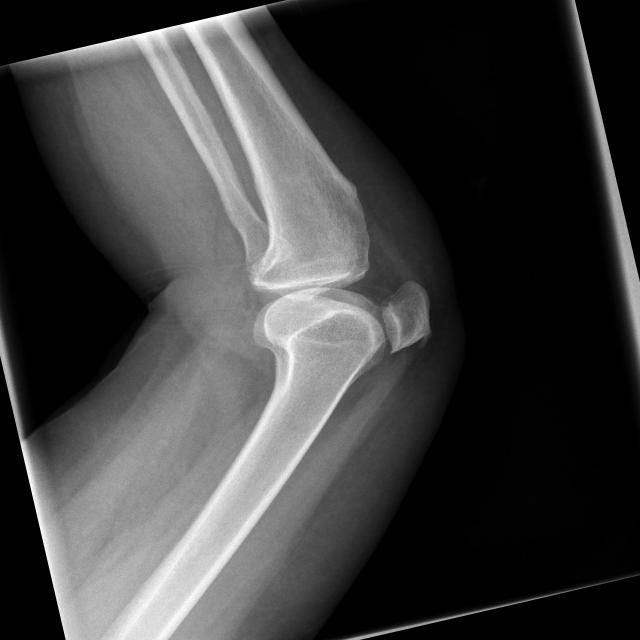Knee: (221, 190, 444, 408)
